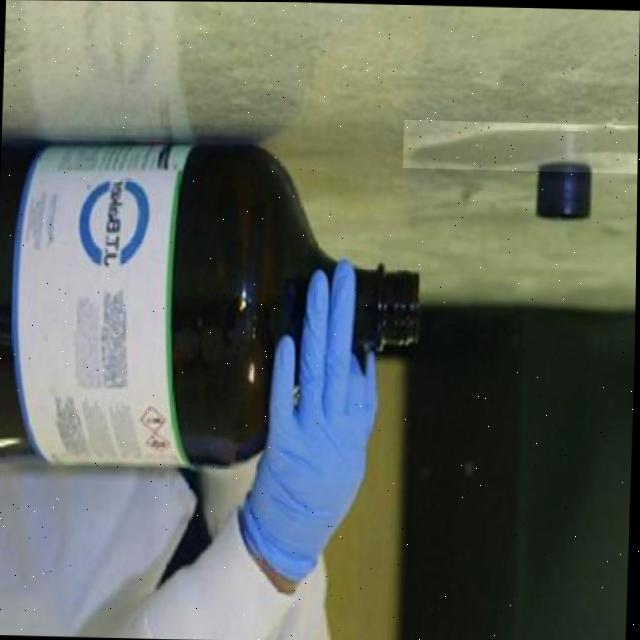spillage: (403, 123, 639, 169)
